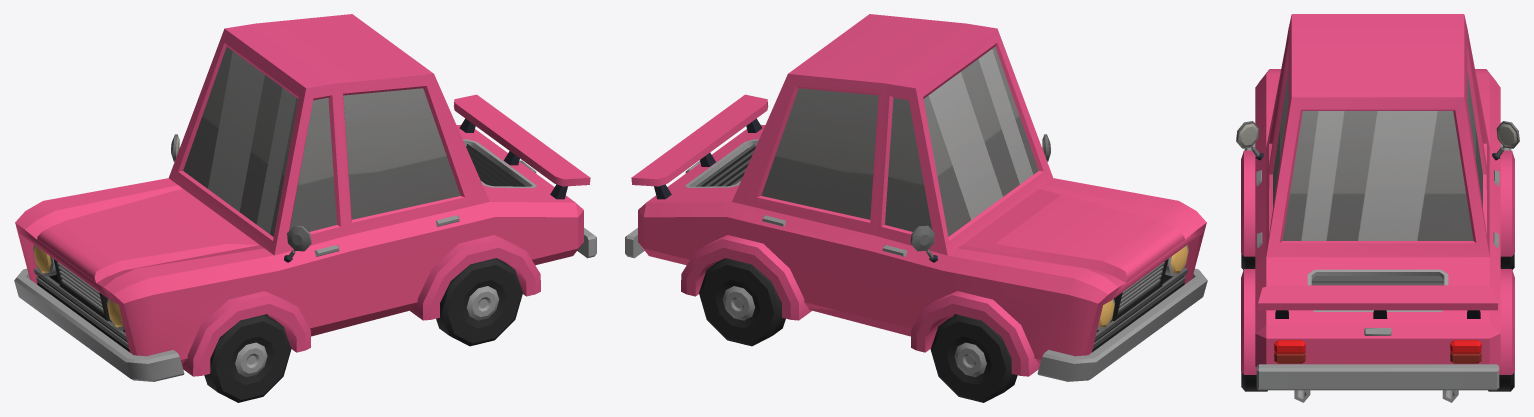
File: Car_6_G.gltf
3 views of the same model, side by side, from view 1: azimuth 30°, elevation 25°; view 2: azimuth 150°, elevation 25°; view 3: azimuth 270°, elevation 25° (orthographic). The views are drawn at different scales.
Parts seen in each view (by area): view 1: Car_6_G, RL, FL; view 2: Car_6_G, RR, FR; view 3: Car_6_G, RL, RR.
Part boxes in pixels (x1=…): Car_6_G: x1=14, y1=14, x2=596, y2=381; RL: x1=436, y1=258, x2=522, y2=346; FL: x1=204, y1=314, x2=291, y2=402; Car_6_G: x1=625, y1=14, x2=1207, y2=381; RR: x1=699, y1=258, x2=785, y2=346; FR: x1=930, y1=314, x2=1017, y2=402; Car_6_G: x1=1236, y1=14, x2=1519, y2=402; RL: x1=1241, y1=372, x2=1267, y2=391; RR: x1=1488, y1=372, x2=1514, y2=391.
Bounding box in the file's own units: 3.1 × 1.72 × 1.51.
4 materials, 4 textured.
